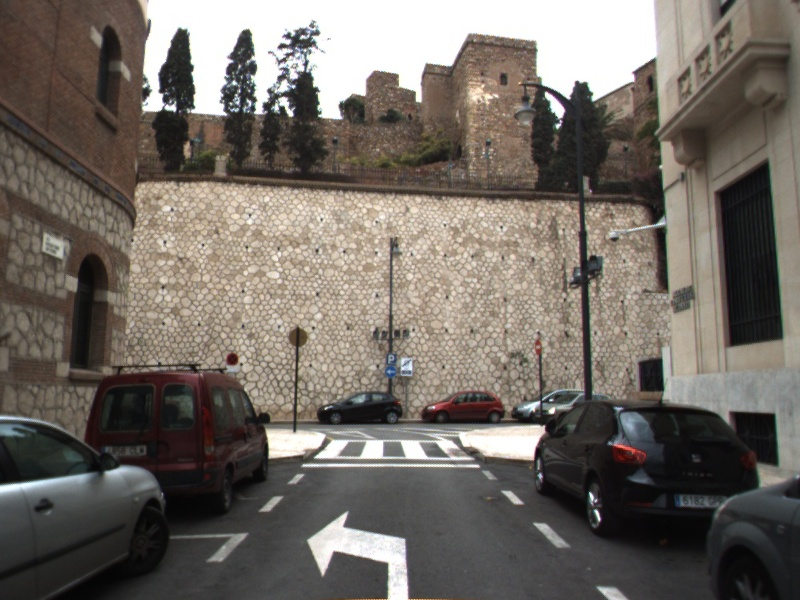LEFT: (303, 506, 410, 600)
